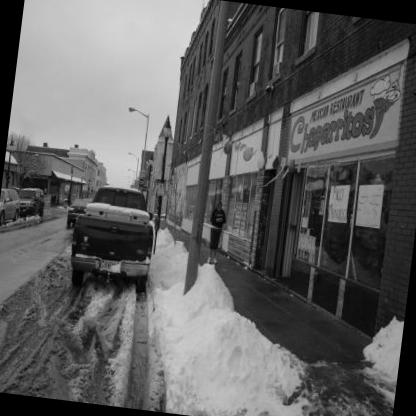truck: (52, 171, 176, 301)
